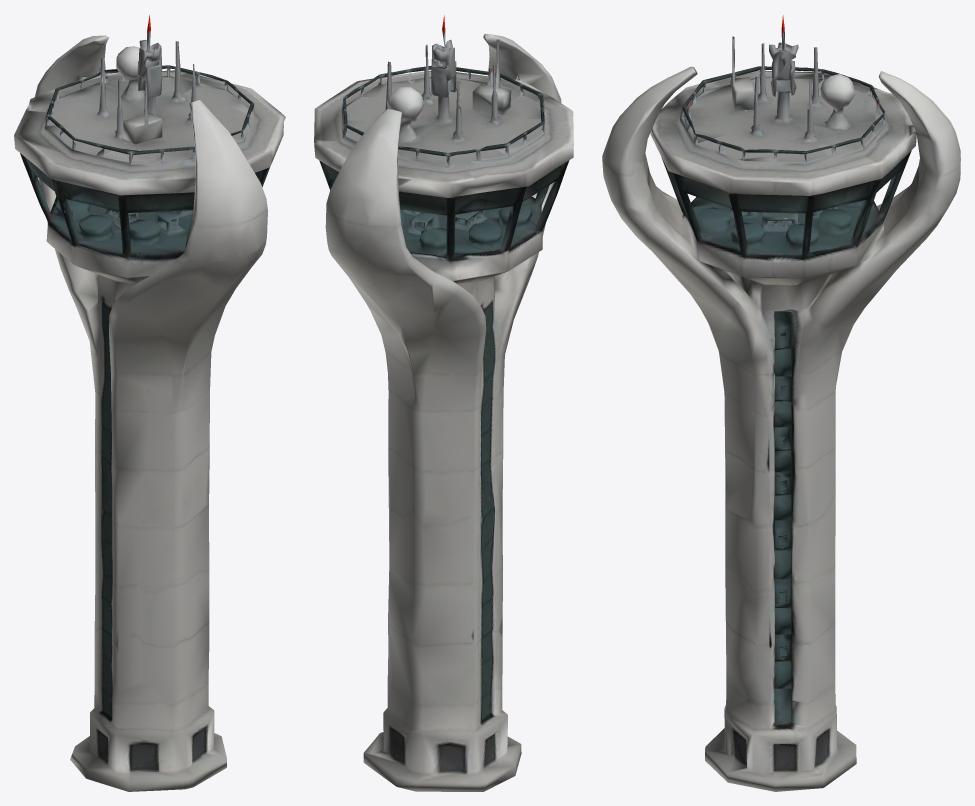
Rendered from lm_tower.glb.
3 views of the same model, side by side, from view 1: azimuth 30°, elevation 25°; view 2: azimuth 150°, elevation 25°; view 3: azimuth 270°, elevation 25° (orthographic).
Visible parts, largest first — view 1: tripo_node_6bddbe72-5d80-494b-8052-a6dc7db7eaa3; view 2: tripo_node_6bddbe72-5d80-494b-8052-a6dc7db7eaa3; view 3: tripo_node_6bddbe72-5d80-494b-8052-a6dc7db7eaa3.
Part boxes in pixels (left/top/right/bottom): tripo_node_6bddbe72-5d80-494b-8052-a6dc7db7eaa3: left=14, top=15, right=285, bottom=791; tripo_node_6bddbe72-5d80-494b-8052-a6dc7db7eaa3: left=314, top=15, right=573, bottom=791; tripo_node_6bddbe72-5d80-494b-8052-a6dc7db7eaa3: left=602, top=15, right=960, bottom=791.
Bounding box in the file's own units: 0.3229 × 0.9998 × 0.4364.
1 material, 1 textured.
